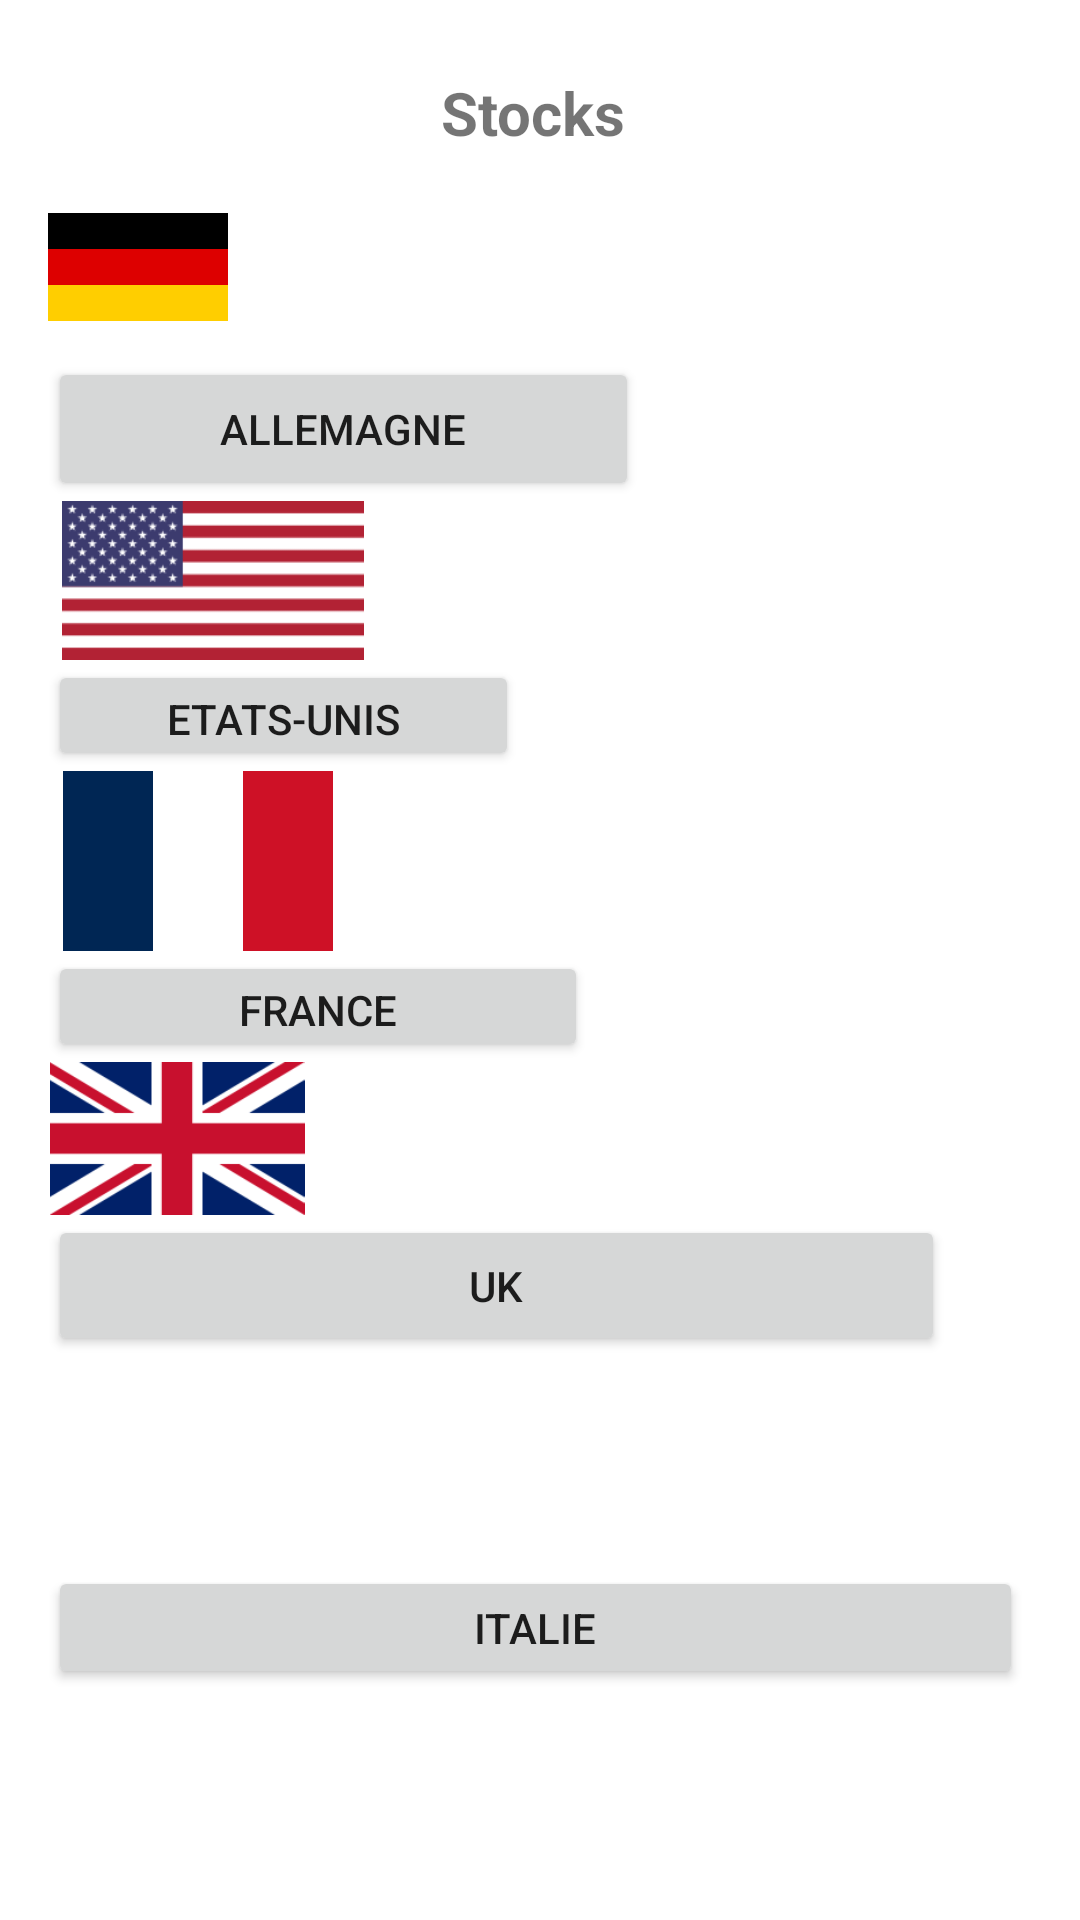

Where icons sit on this 1080*1920 app screen, as (x1, y1, x2, y2):
royaume unis: (50, 1062, 305, 1215)
